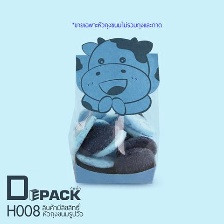snack: (60, 31, 168, 191)
